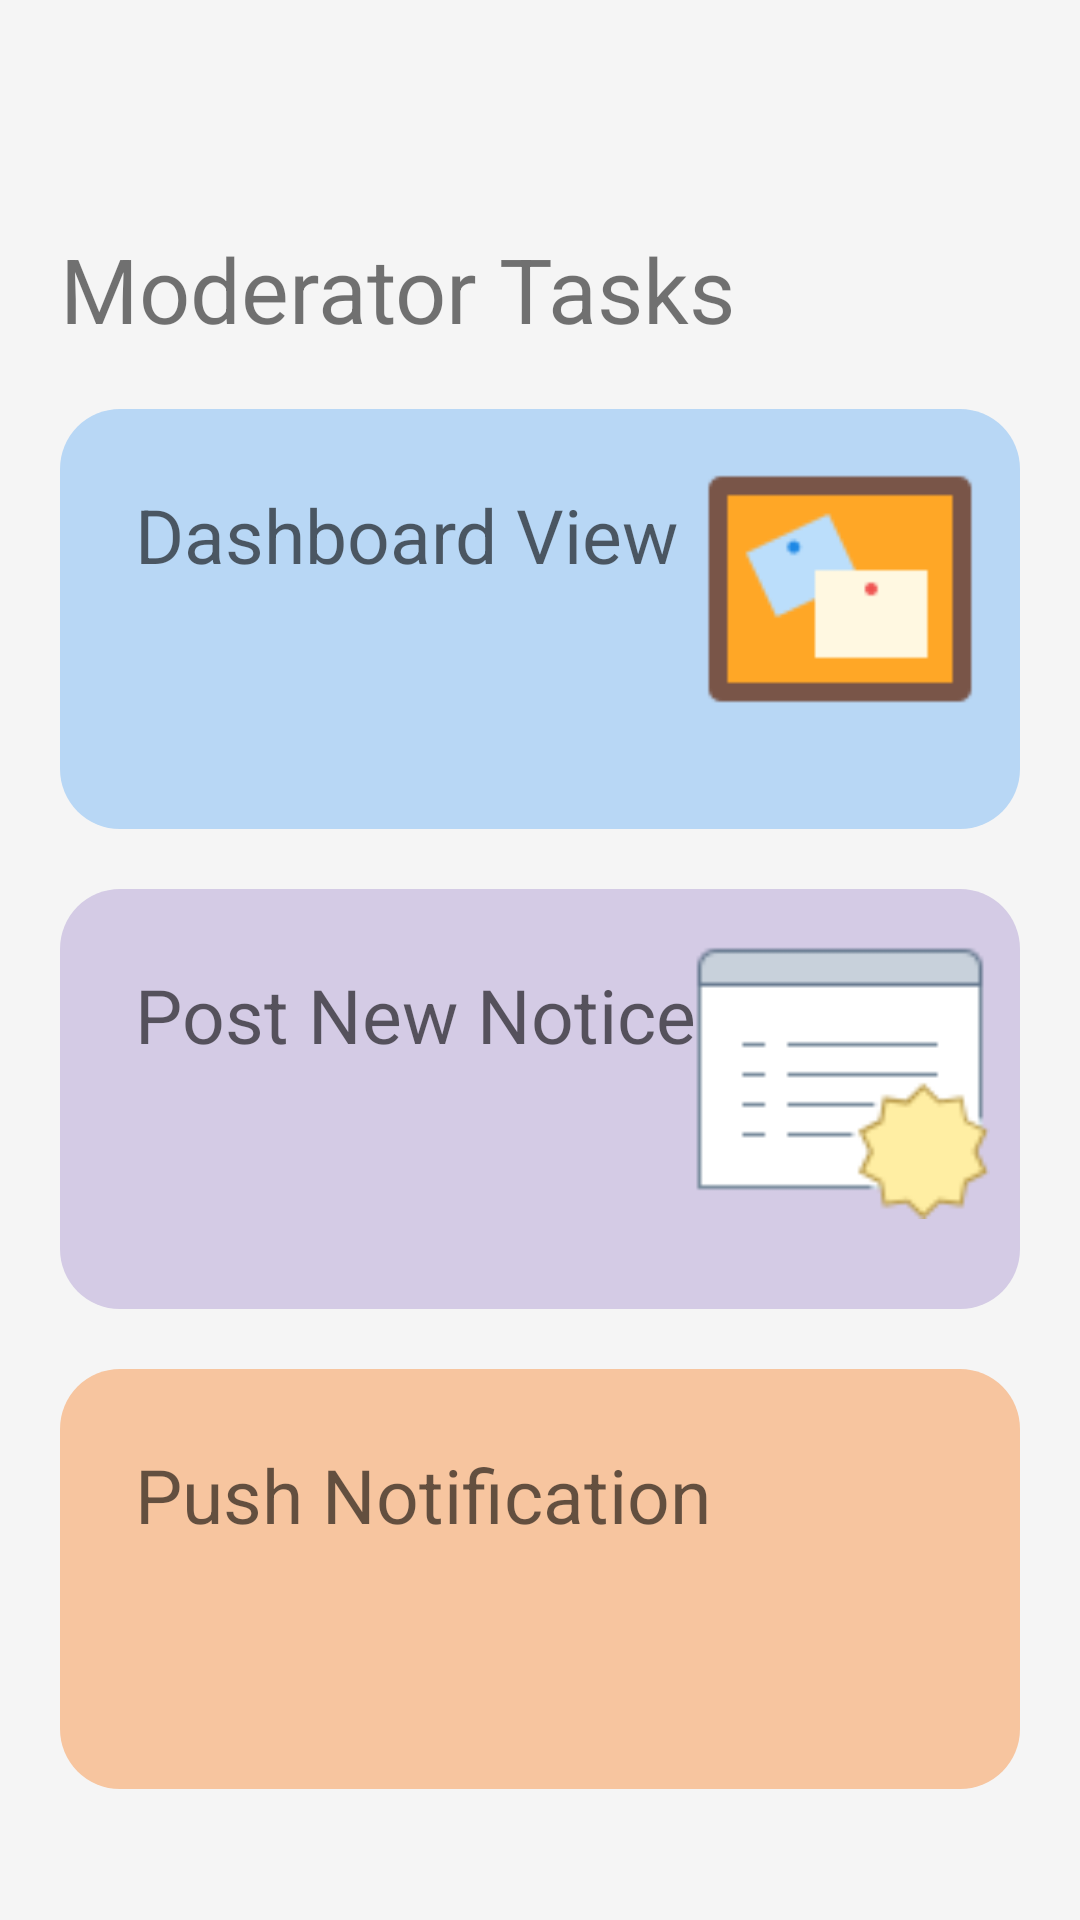

Locate icon controls on the screen. Image size 1080 x 1920, boxes as (x1, y1, x2, y2).
noticeboard: (708, 475, 972, 703)
